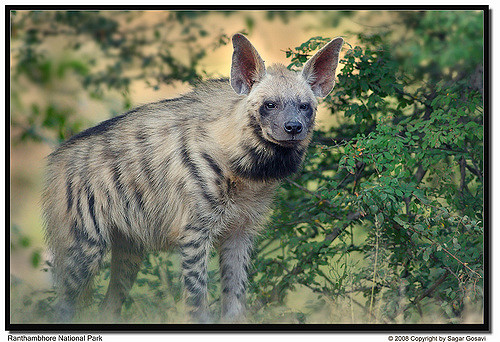hyena: (37, 31, 344, 323)
